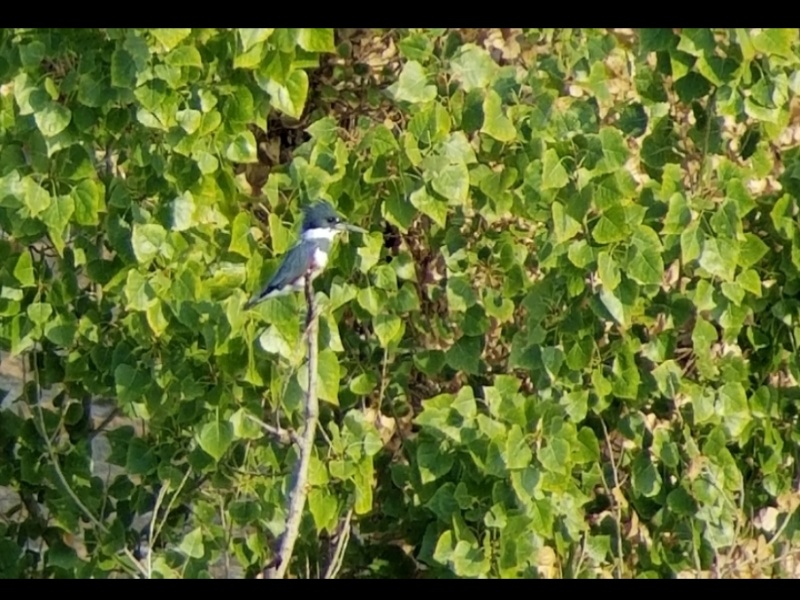kingfisher: (258, 198, 372, 327)
